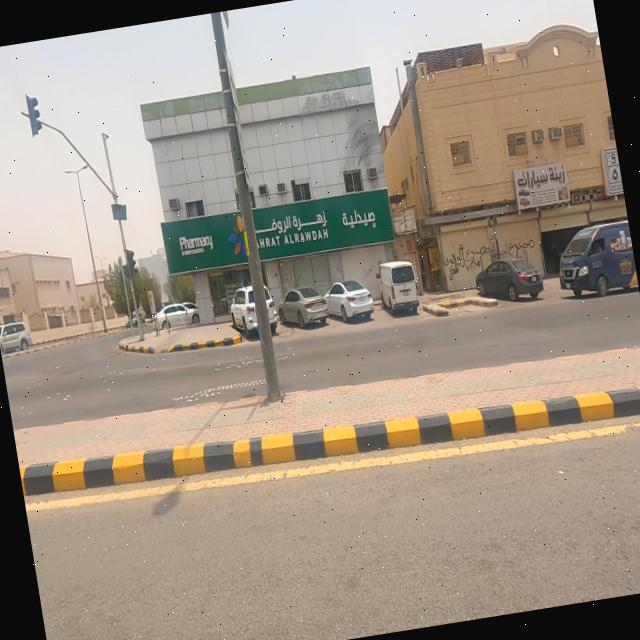Graffiti: (444, 240, 495, 281), (497, 236, 538, 268), (360, 264, 377, 281)
